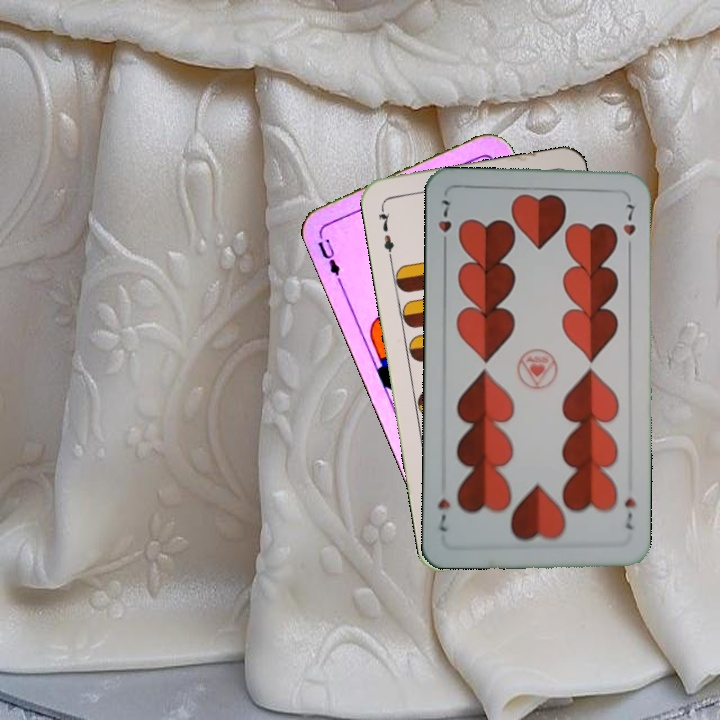E7: (374, 202, 397, 261)
EU: (313, 228, 344, 285)
H7: (434, 195, 454, 252), (620, 493, 638, 532)
